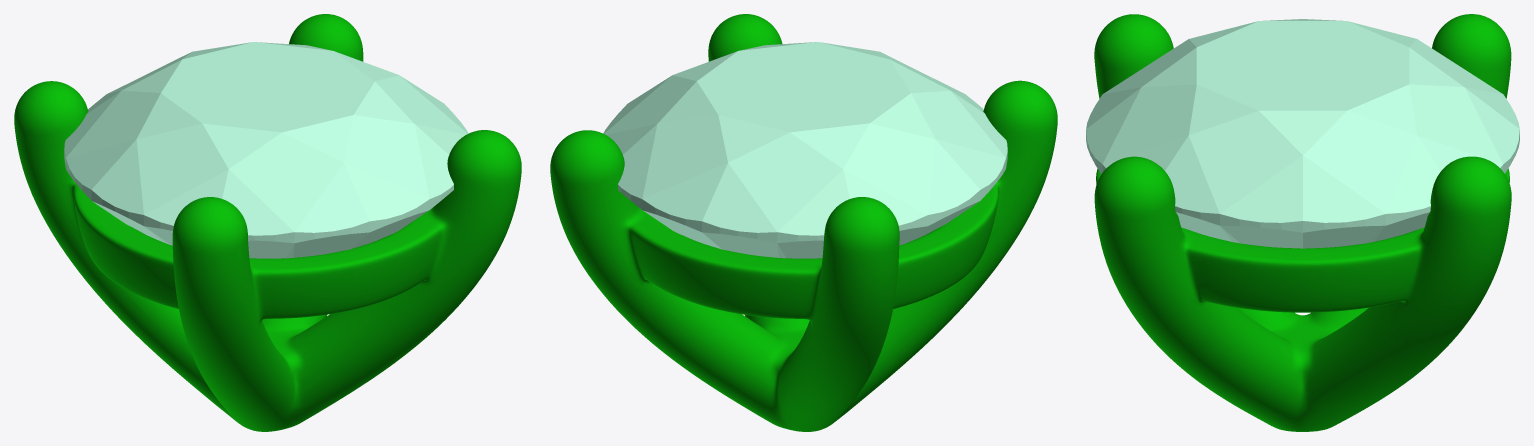
The picture shows the model from 3 angles, left to right: view 1: azimuth 30°, elevation 25°; view 2: azimuth 150°, elevation 25°; view 3: azimuth 270°, elevation 25°; orthographic projection. The views are drawn at different scales.
Parts seen in each view (by area): view 1: Metal01, CS_Diamond; view 2: Metal01, CS_Diamond; view 3: Metal01, CS_Diamond.
Boxes of the visible parts, x1=… form: Metal01: x1=14, y1=14, x2=521, y2=431; CS_Diamond: x1=64, y1=42, x2=468, y2=258; Metal01: x1=550, y1=14, x2=1057, y2=431; CS_Diamond: x1=603, y1=42, x2=1007, y2=258; Metal01: x1=1094, y1=14, x2=1511, y2=431; CS_Diamond: x1=1086, y1=19, x2=1519, y2=248.
Bounding box in the file's own units: 6 × 5.4 × 6.
